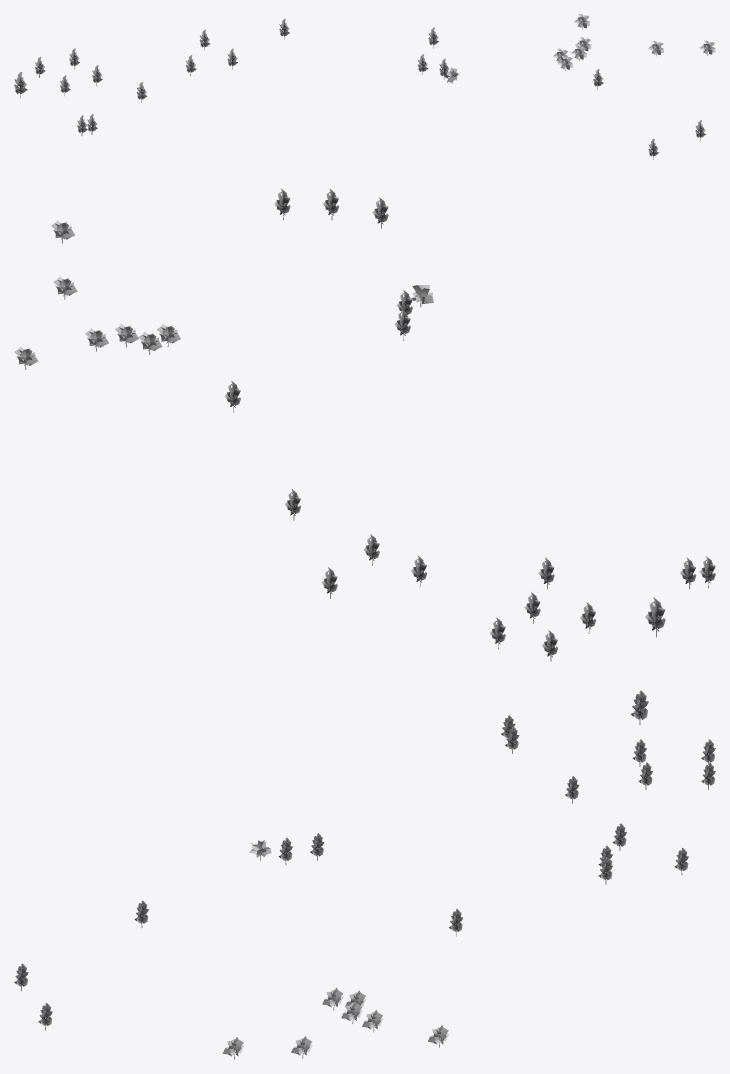
File: trees_in_living_organigam.fbx
3 views of the same model, one above another, from view 1: azimuth 30°, elevation 25°; view 2: azimuth 150°, elevation 25°; view 3: azimuth 270°, elevation 25° (orthographic). The views are drawn at different scales.
Parts seen in each view (by area): view 1: polySurface129, polySurface106, polySurface42, polySurface309, polySurface246, polySurface154; view 2: polySurface106, polySurface129, polySurface42, polySurface309, polySurface246, polySurface154; view 3: polySurface129, polySurface106, polySurface42, polySurface309, polySurface246, polySurface154.
Boxes of the visible parts, left/top/right/bottom form: polySurface129: left=14, top=48, right=102, bottom=98; polySurface106: left=553, top=14, right=591, bottom=70; polySurface42: left=593, top=40, right=715, bottom=159; polySurface309: left=417, top=27, right=458, bottom=83; polySurface246: left=186, top=18, right=289, bottom=75; polySurface154: left=77, top=82, right=146, bottom=135; polySurface106: left=14, top=324, right=180, bottom=369; polySurface129: left=490, top=592, right=665, bottom=661; polySurface42: left=51, top=188, right=388, bottom=299; polySurface309: left=224, top=285, right=433, bottom=412; polySurface246: left=285, top=489, right=427, bottom=598; polySurface154: left=538, top=556, right=715, bottom=589; polySurface129: left=630, top=690, right=715, bottom=789; polySurface106: left=322, top=987, right=448, bottom=1047; polySurface42: left=14, top=900, right=312, bottom=1059; polySurface309: left=249, top=833, right=462, bottom=936; polySurface246: left=598, top=823, right=688, bottom=884; polySurface154: left=501, top=715, right=579, bottom=803.
Size of the model in its own units: 65817 by 8867 by 52872.
